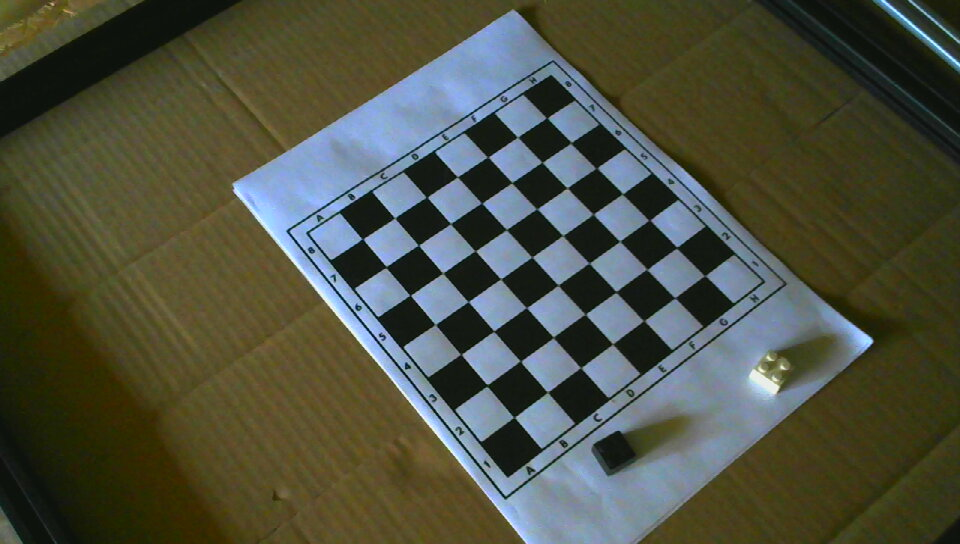bp: (590, 428, 638, 478)
wp: (745, 347, 797, 397)
